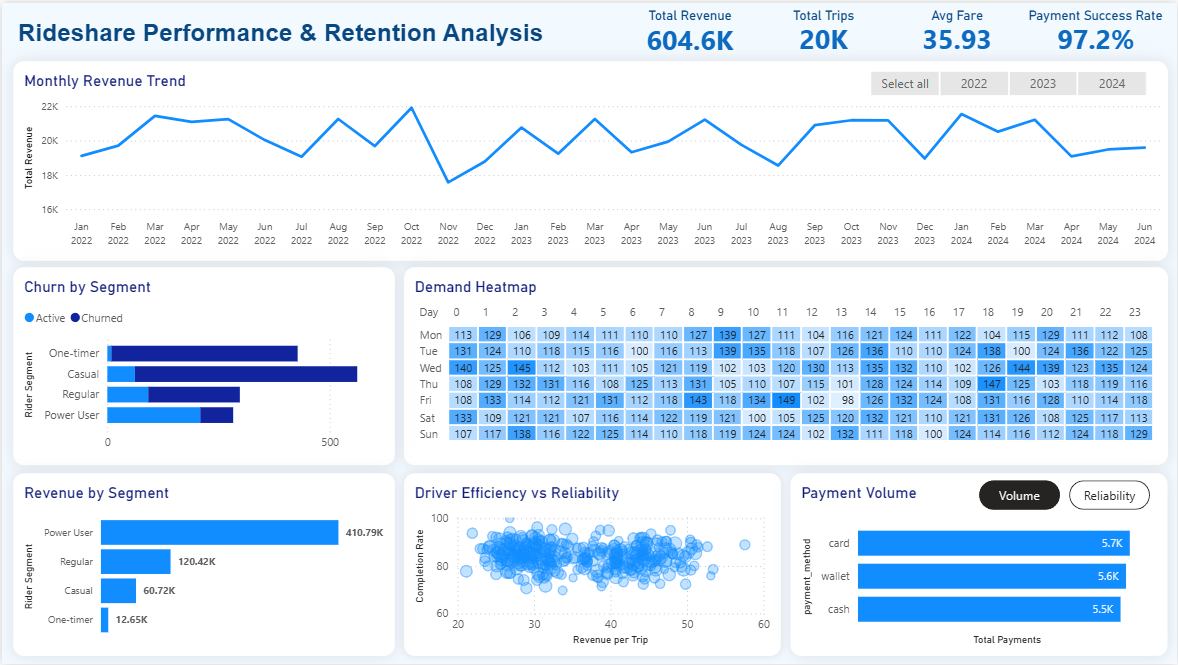

The page's visual inventory and layout, read from the dashboard file:
{"tool":"powerbi","page":{"name":"Page 2","canvas":[1280,720],"ordinal":0},"visuals":[{"type":"lineChart","title":"Monthly Revenue Trend","fields":{"Category":["DateTable.Month Year"],"Y":["rideshare trips.Total Revenue"]},"box":[12.2,63.3,1257.8,217.8],"z":0},{"type":"pivotTable","title":"Demand Heatmap","fields":{"Rows":["rideshare trips.Day Name"],"Columns":["rideshare trips.Hour"],"Values":["rideshare trips.Total Trips"]},"box":[437.7,287.7,832.3,215.4],"z":1000},{"type":"scatterChart","title":"Driver Efficiency vs Reliability","fields":{"Size":["rideshare trips.Total Trips"],"Category":["rideshare drivers.driver_id"],"Y":["rideshare trips.Completion Rate"],"X":["rideshare trips.Revenue per Trip"]},"box":[438,512,411,199],"z":2000},{"type":"barChart","title":"Churn by Segment","fields":{"Series":["Rider Summary.Retention Status"],"Y":["CountNonNull(Rider Summary.rider_id)"],"Category":["Rider Summary.Rider Segment"]},"box":[12.3,287.7,415.4,215.4],"z":3000},{"type":"barChart","title":"Revenue by Segment","fields":{"Category":["Rider Summary.Rider Segment"],"Y":["Sum(Rider Summary.Total Spend)"]},"box":[12,512,416,199],"z":4000},{"type":"barChart","title":"Payment Volume","fields":{"Y":["rideshare payments.Total Payments"],"Category":["rideshare trips.payment_method"]},"box":[858.9,512.2,411.1,198.9],"z":5000},{"type":"textbox","title":"Rideshare Performance & Retention Analysis","box":[12.2,12.2,595.6,44.4],"z":6000},{"type":"card","title":"Total Revenue","fields":{"Values":["rideshare trips.Total Revenue"]},"box":[676.7,0,145.6,65.6],"z":7000},{"type":"card","title":"Payment Success Rate","fields":{"Values":["rideshare payments.Payment Success Rate"]},"box":[1113.3,0,156.7,63.3],"z":8000},{"type":"card","title":"Avg Fare","fields":{"Values":["rideshare trips.Avg Fare"]},"box":[967.8,0,145.6,63.3],"z":9000},{"type":"card","title":"Total Trips","fields":{"Values":["rideshare trips.Total Trips"]},"box":[822.2,0,145.6,63.3],"z":10000},{"type":"slicer","title":"Year","fields":{"Values":["DateTable.Year"]},"box":[923.3,70,346.7,34.4],"z":11000},{"type":"actionButton","box":[1064.4,520,100,32.2],"z":13000},{"type":"bookmarkNavigator","box":[1064.7,520,187.3,32],"z":14000}]}

Visuals, with their boxes in screenshot pixels (x1, y1, x2, y2), scaled from the page's 1280x720 canvas onto the 1178x665 screenshot:
"Monthly Revenue Trend" lineChart: (left=11, top=58, right=1169, bottom=260)
"Demand Heatmap" pivotTable: (left=403, top=266, right=1169, bottom=465)
"Driver Efficiency vs Reliability" scatterChart: (left=403, top=473, right=781, bottom=657)
"Churn by Segment" barChart: (left=11, top=266, right=394, bottom=465)
"Revenue by Segment" barChart: (left=11, top=473, right=394, bottom=657)
"Payment Volume" barChart: (left=790, top=473, right=1169, bottom=657)
"Rideshare Performance & Retention Analysis" textbox: (left=11, top=11, right=559, bottom=52)
"Total Revenue" card: (left=623, top=0, right=757, bottom=61)
"Payment Success Rate" card: (left=1025, top=0, right=1169, bottom=58)
"Avg Fare" card: (left=891, top=0, right=1025, bottom=58)
"Total Trips" card: (left=757, top=0, right=891, bottom=58)
"Year" slicer: (left=850, top=65, right=1169, bottom=96)
actionButton: (left=980, top=480, right=1072, bottom=510)
bookmarkNavigator: (left=980, top=480, right=1152, bottom=510)
